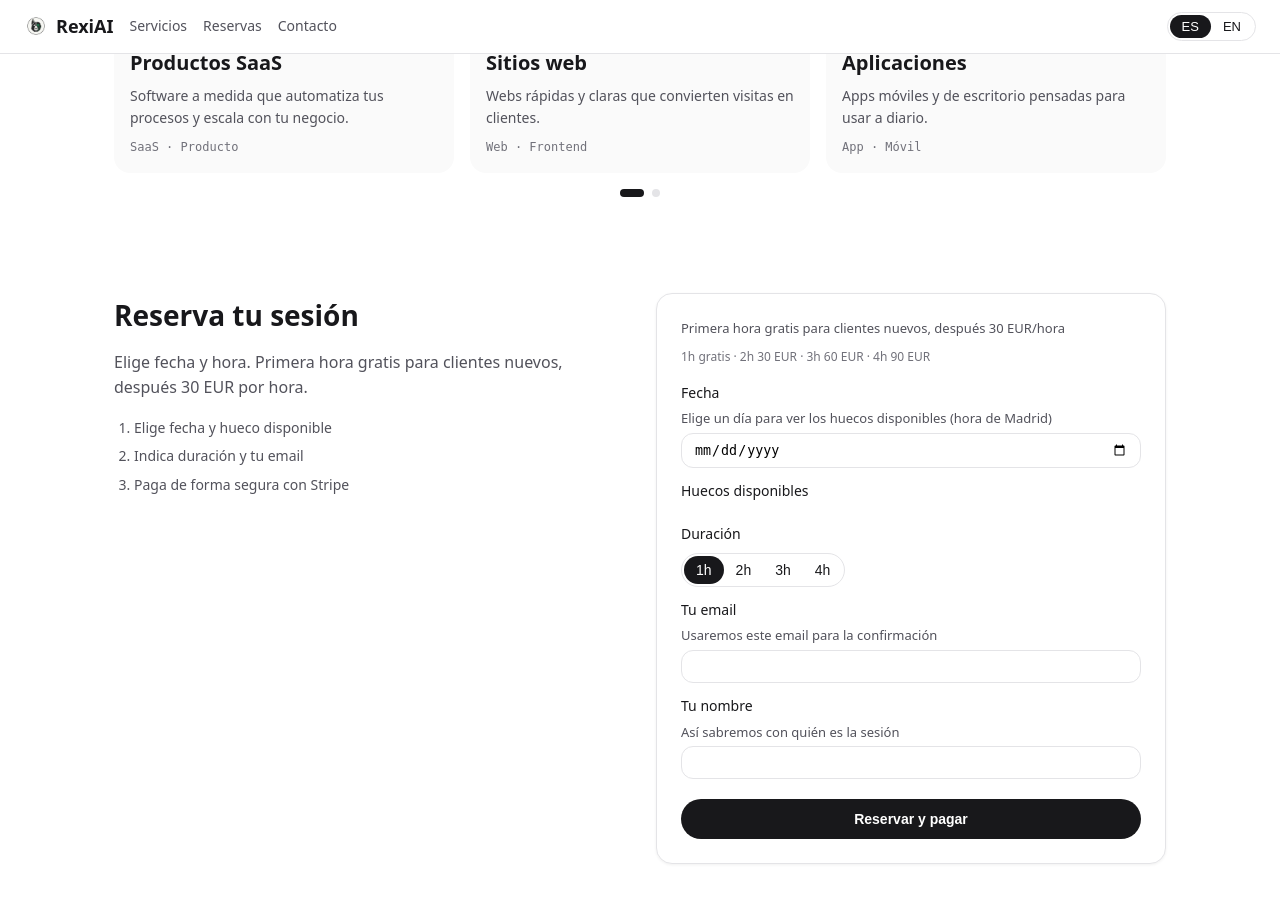
it: AC-011 › AC-011-01: Selecting a date loads available slots
(page scrolled)
Type "2027-03-01" into the date field with id "booking-date" at (911, 451), box 681,433 -> 1141,468
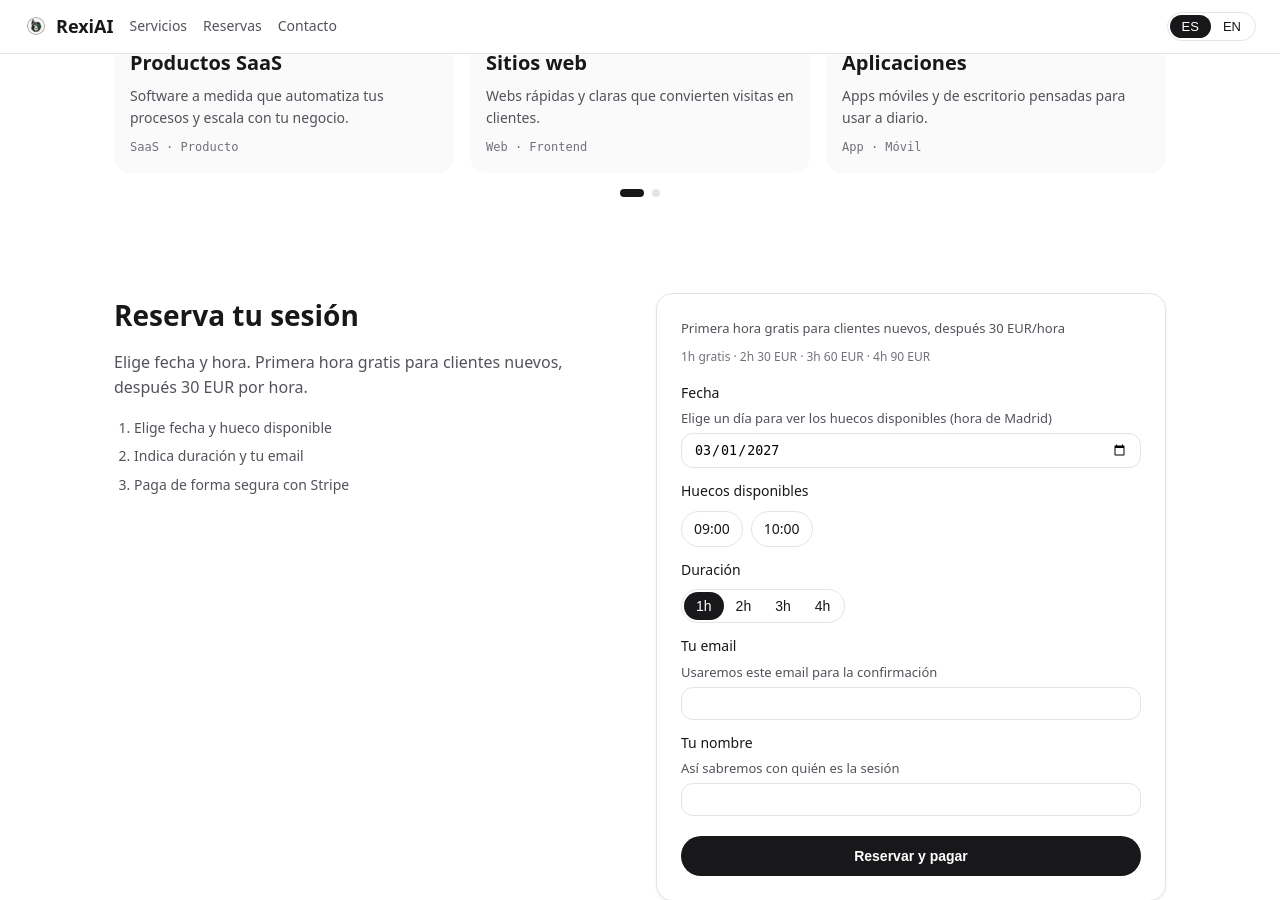
Expected: the radio button "09:00" is shown, 681,511 -> 743,547
Expected: the radio button "10:00" is shown, 751,511 -> 813,547
